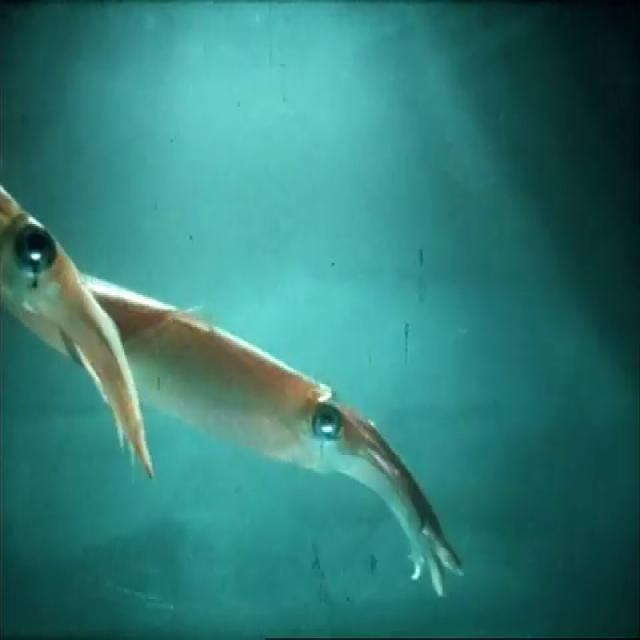squid: (0, 272, 462, 598), (0, 184, 150, 479)
